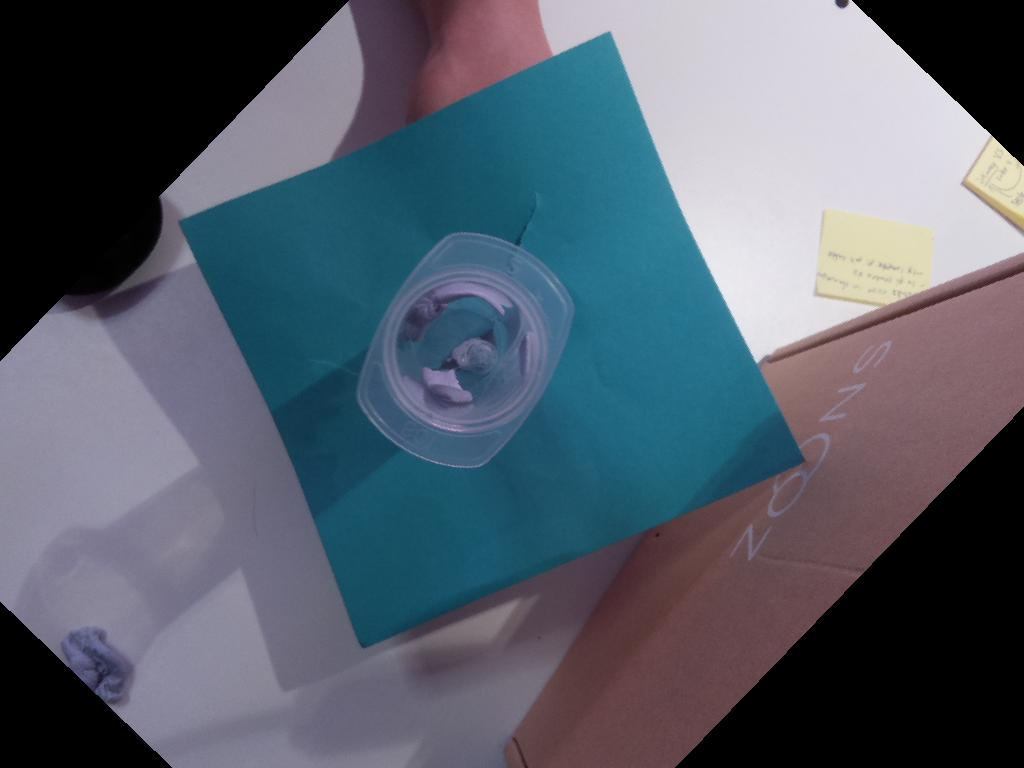dirty: (356, 232, 575, 470)
